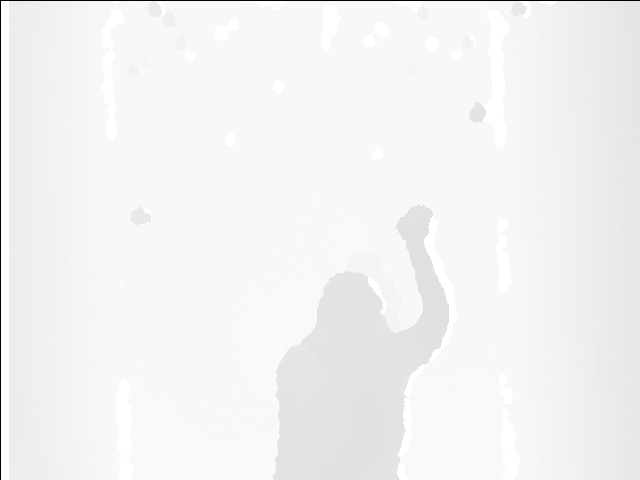hand: (393, 202, 433, 249)
